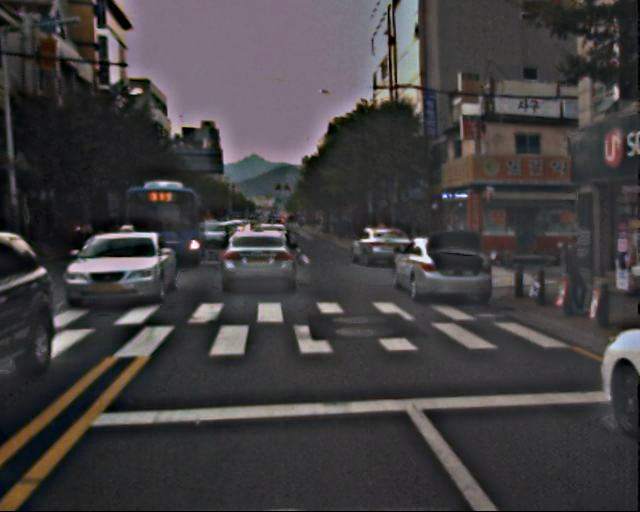person: (559, 237, 592, 314), (512, 218, 532, 259)
